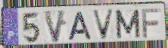5: (21, 11, 42, 44)
A: (67, 11, 94, 42)
F: (140, 8, 162, 40)
M: (113, 8, 142, 40)
V: (42, 9, 68, 45), (91, 9, 115, 41)
